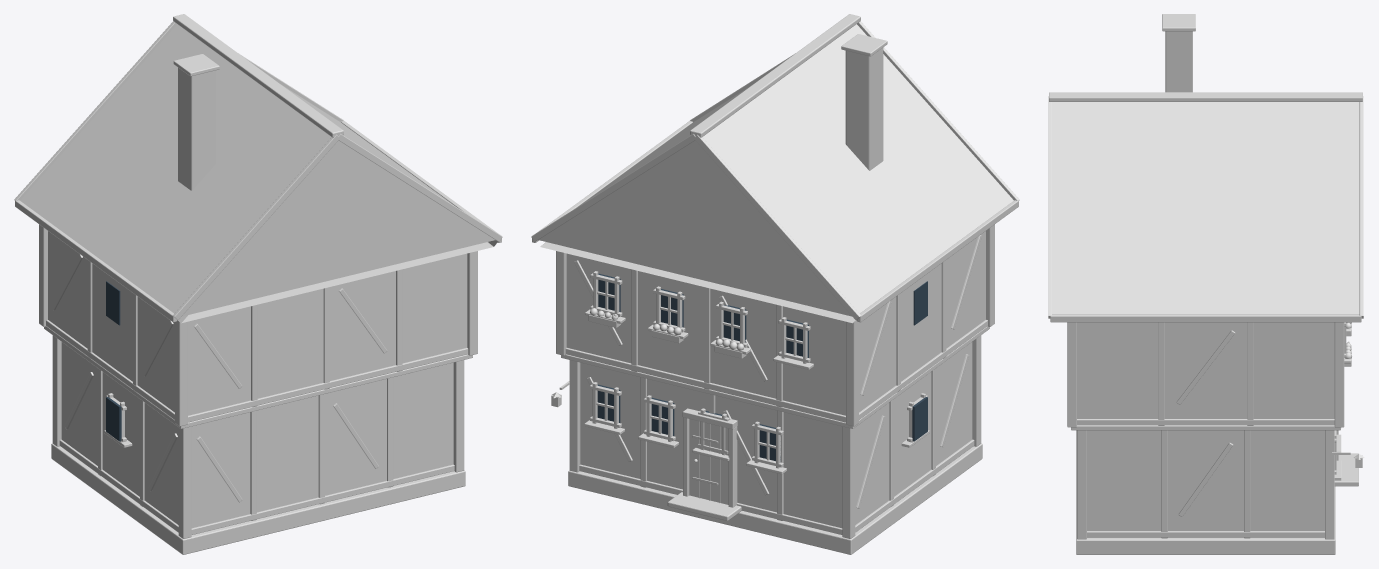
The model's file is house_f.fbx.
3 views of the same model, side by side, from view 1: azimuth 30°, elevation 25°; view 2: azimuth 150°, elevation 25°; view 3: azimuth 270°, elevation 25° (orthographic).
Parts seen in each view (by area): view 1: house_f; view 2: house_f; view 3: house_f.
Boxes of the visible parts, bbox=[...] form: house_f: bbox=[14, 14, 502, 554]; house_f: bbox=[531, 14, 1019, 554]; house_f: bbox=[1048, 14, 1364, 554].
Size of the model in its own units: 844 by 1073 by 715.
